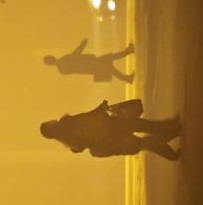person: (40, 97, 181, 139), (41, 37, 139, 83), (69, 138, 186, 163)
